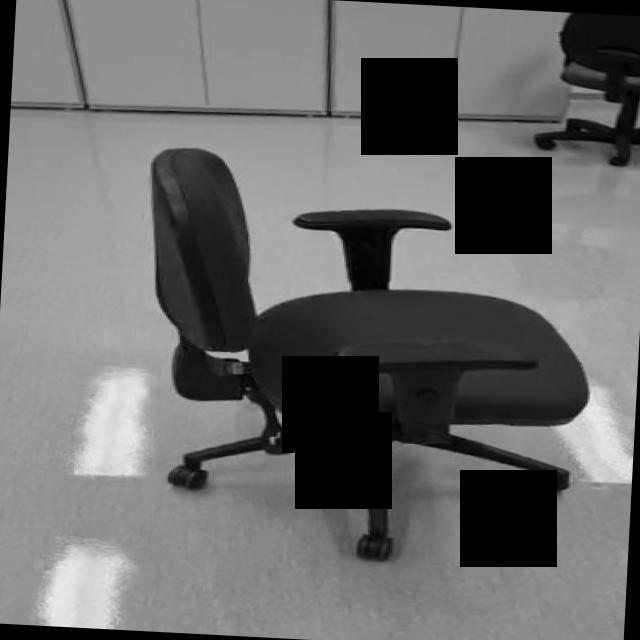chair: (132, 146, 603, 574)
